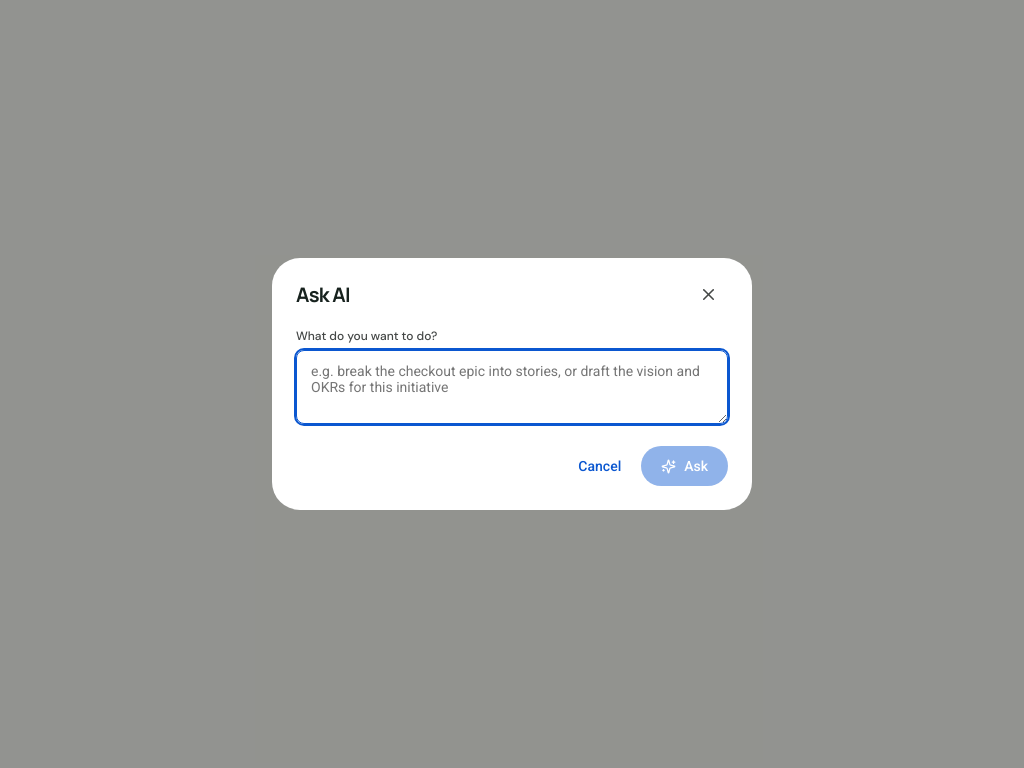
Test case: AskAiDialog › keeps Ask disabled until a request is typed
Expected: the button "Ask" is disabled, [641, 446, 728, 486]
Step 1. Replace the text in the text box with placeholder "break the checkout epic" with "split the epic" → (512, 387), box [296, 350, 728, 424]
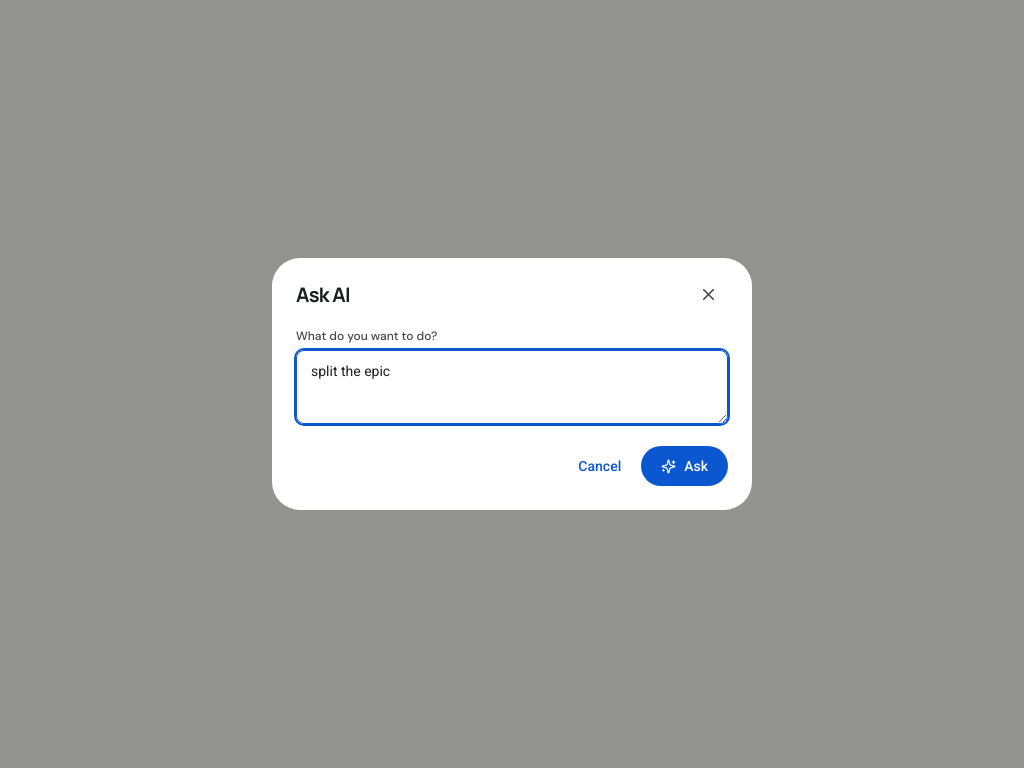
Expected: the button "Ask" is enabled, [641, 446, 728, 486]
